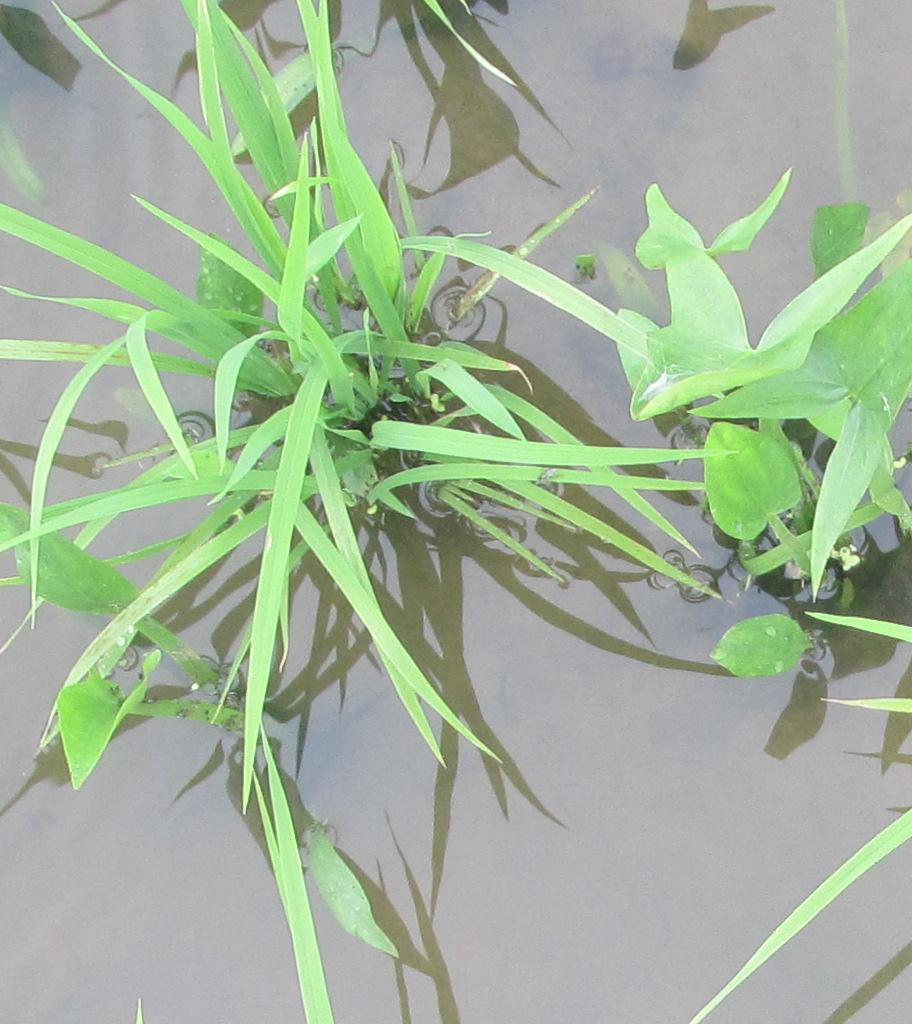Weed: (660, 249, 900, 677), (47, 664, 158, 791)
